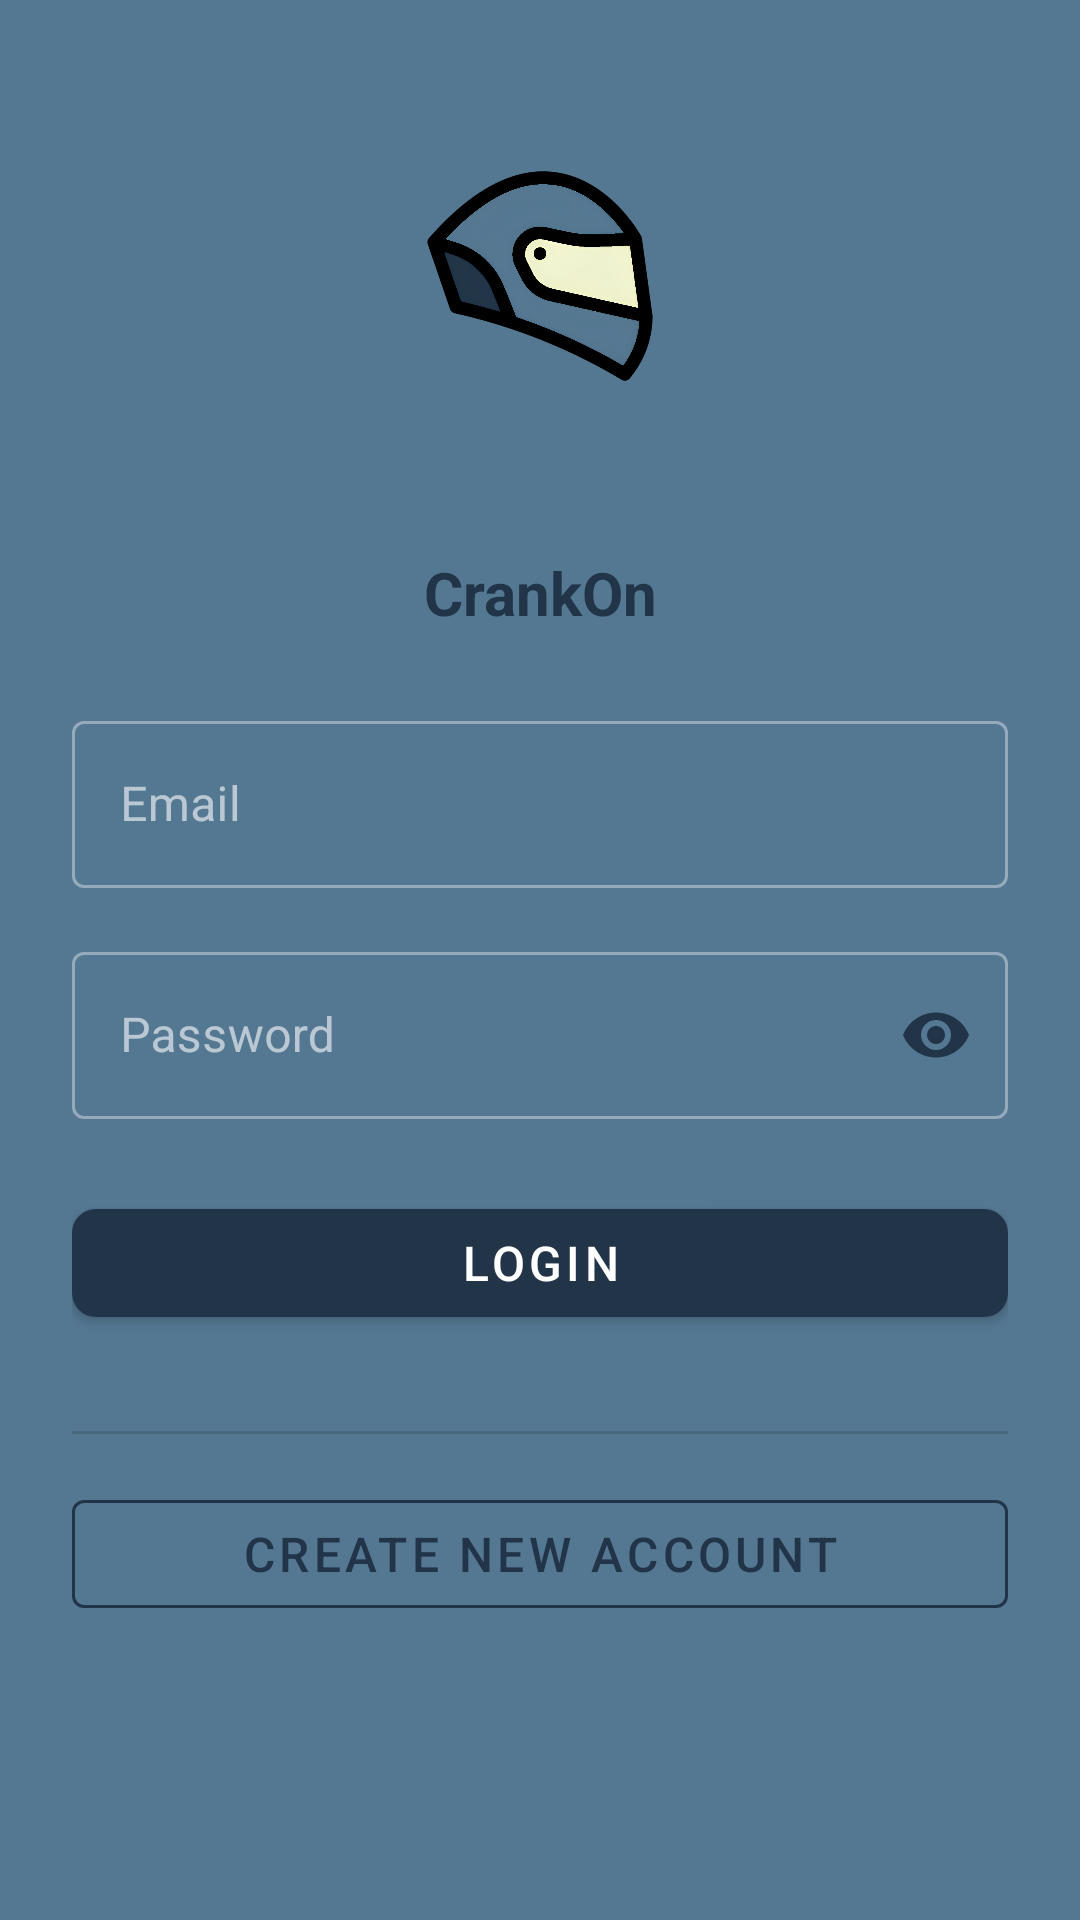

Named icons in this screenshot (1080x1920) and their bounding boxes, box(x1, y1, x2, y2):
helmet: box(427, 171, 653, 381)
